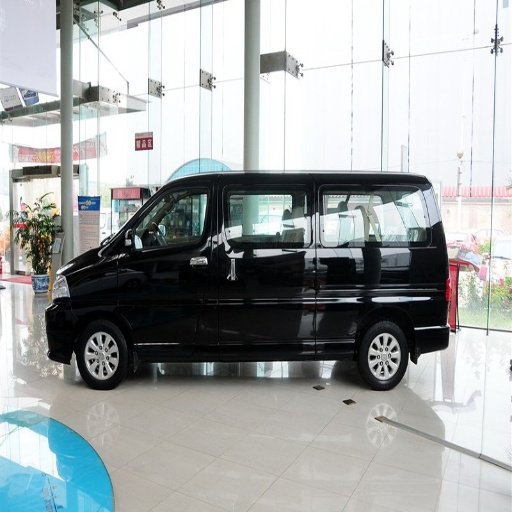trunk: (333, 288, 432, 348)
